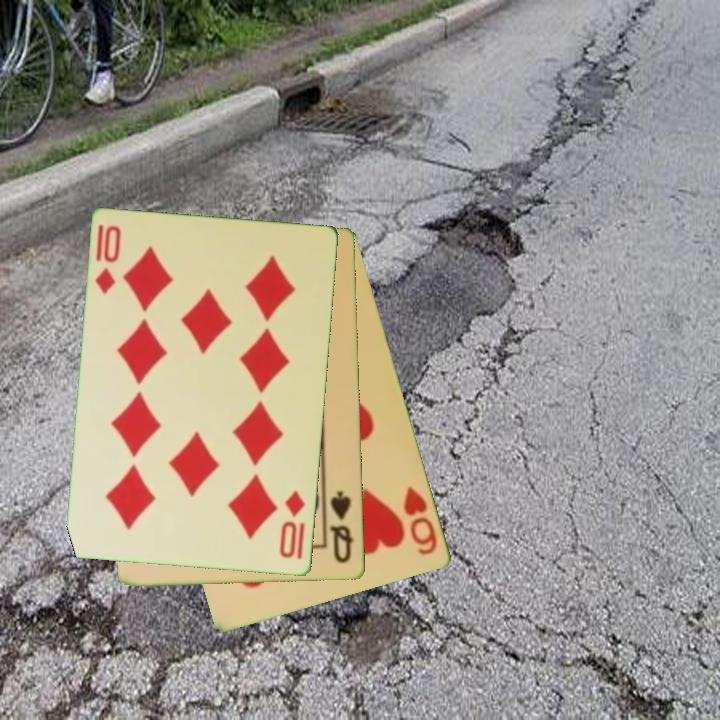10d: (92, 222, 125, 297), (276, 487, 308, 562)
6h: (400, 483, 441, 559)
Qs: (326, 488, 357, 567)
